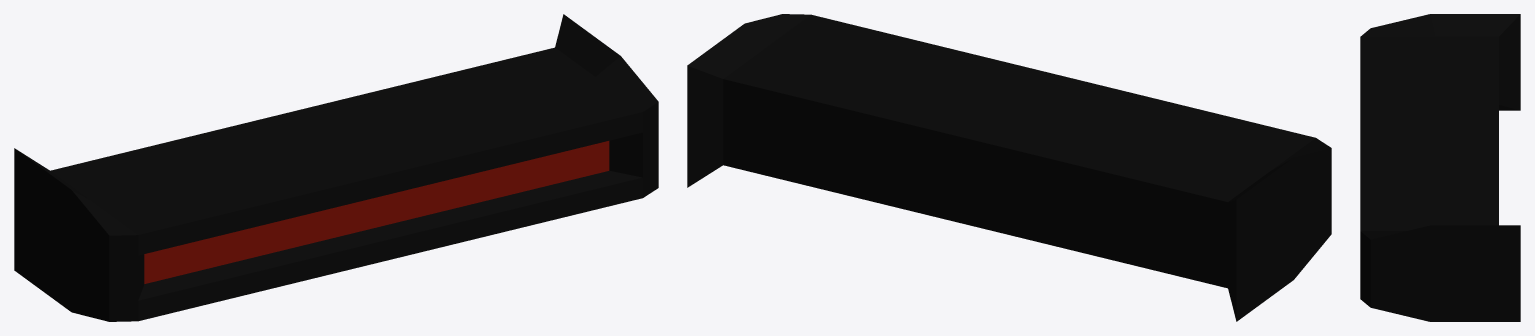
Rendered from VisorFuturista.fbx.
The picture shows the model from 3 angles, left to right: view 1: azimuth 30°, elevation 25°; view 2: azimuth 150°, elevation 25°; view 3: azimuth 270°, elevation 25°; orthographic projection. The views are drawn at different scales.
Parts seen in each view (by area): view 1: VisorFuturista; view 2: VisorFuturista; view 3: VisorFuturista.
Part boxes in pixels (x1,y1,x2,y2): VisorFuturista: [14, 14, 658, 321]; VisorFuturista: [687, 14, 1331, 321]; VisorFuturista: [1360, 14, 1520, 321].
Bounding box in the file's own units: 201 × 42.92 × 64.6.
